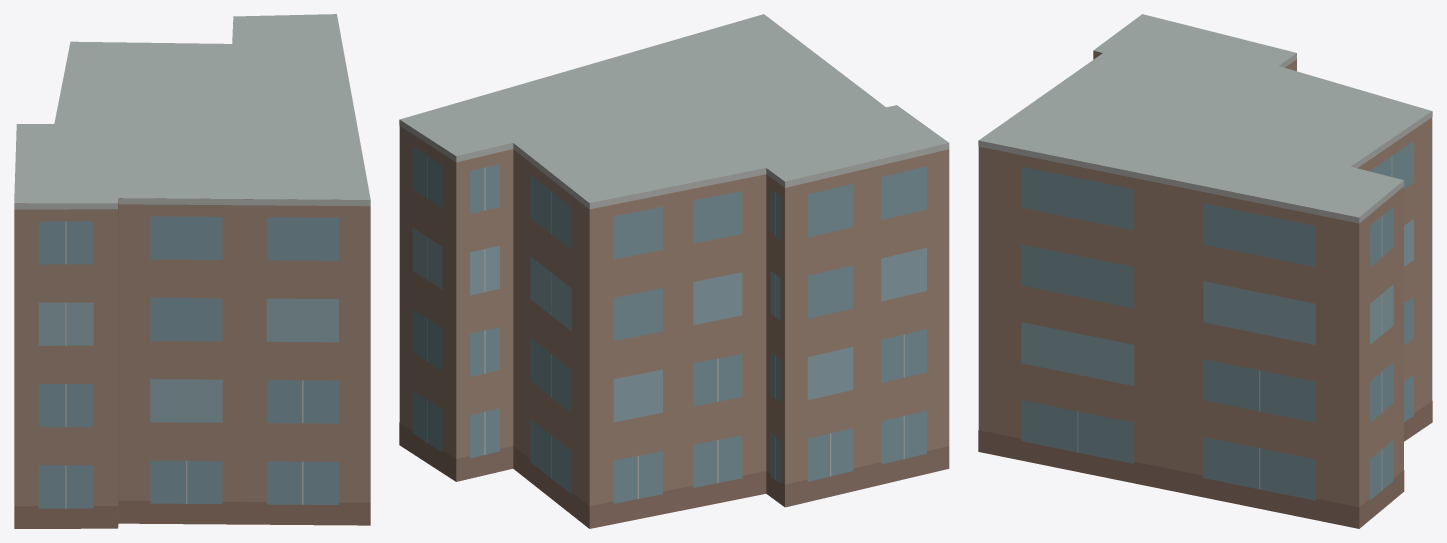
Rendered from survey-upis-33008116.glb.
3 views of the same model, side by side, from view 1: azimuth 30°, elevation 25°; view 2: azimuth 150°, elevation 25°; view 3: azimuth 270°, elevation 25° (orthographic). The views are drawn at different scales.
Parts seen in each view (by area): view 1: survey-upis-33008116.tmp; view 2: survey-upis-33008116.tmp; view 3: survey-upis-33008116.tmp.
Boxes of the visible parts, x1,y1,x2,y2 form: survey-upis-33008116.tmp: (14,14,370,528); survey-upis-33008116.tmp: (399,14,949,528); survey-upis-33008116.tmp: (978,14,1432,528).
Size of the model in its own units: 17.96 by 12.8 by 16.93.
